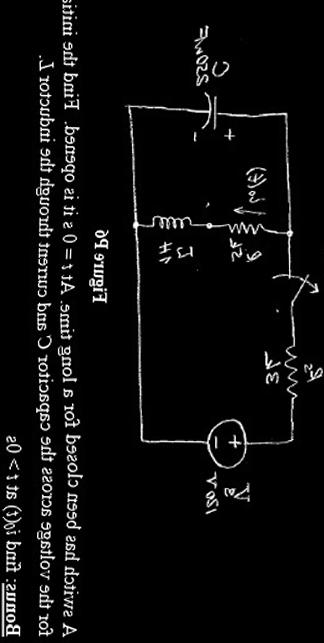Battery: (192, 400, 264, 469)
